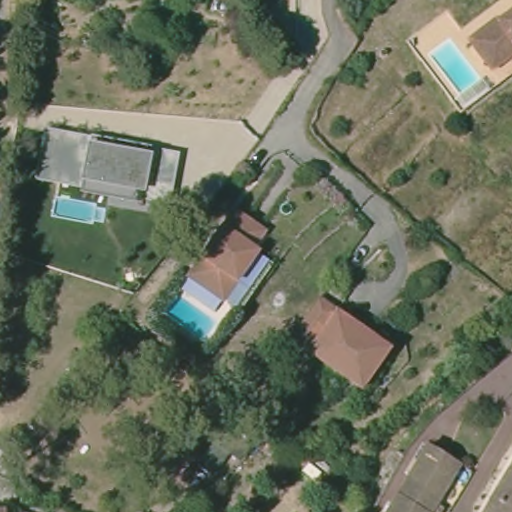pool: (421, 39, 489, 99), (164, 294, 222, 339), (44, 192, 108, 227)
